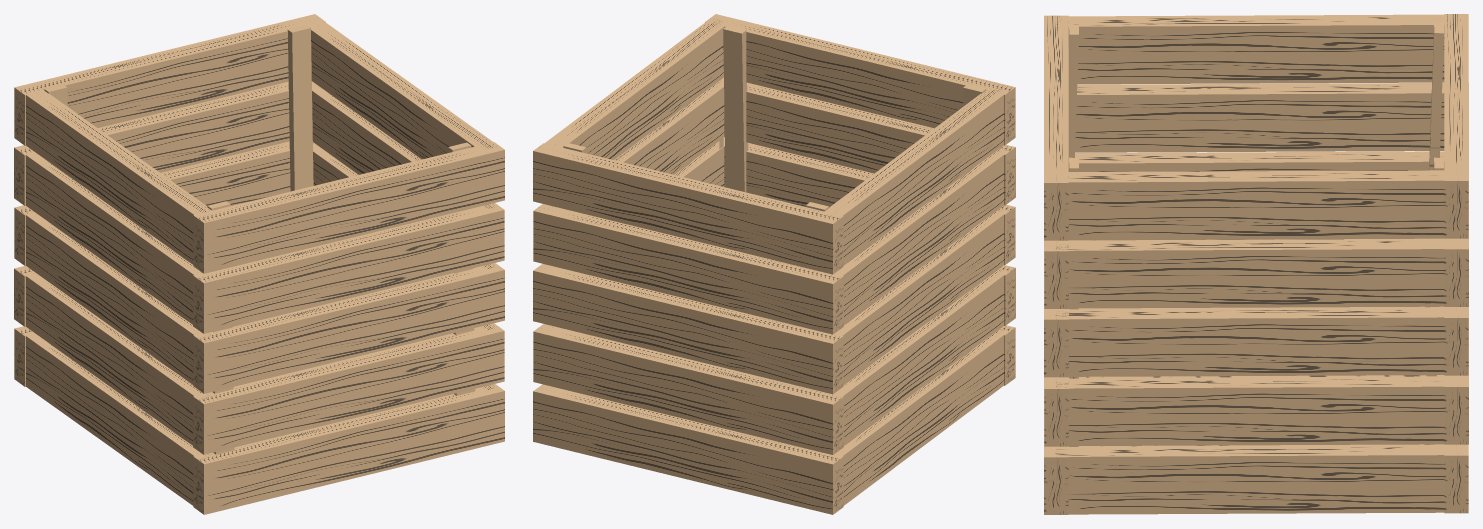
File: compost_v1.glb
3 views of the same model, side by side, from view 1: azimuth 30°, elevation 25°; view 2: azimuth 150°, elevation 25°; view 3: azimuth 270°, elevation 25° (orthographic). The views are drawn at different scales.
Visible parts, largest first — view 1: Cube; view 2: Cube; view 3: Cube.
Boxes of the visible parts, x1,y1,x2,y2 form: Cube: (14,14,504,514); Cube: (533,14,1015,514); Cube: (1044,14,1468,514).
Bounding box in the file's own units: 1.01 × 0.9298 × 1.07.
Materials: 1 (1 with a texture image).
